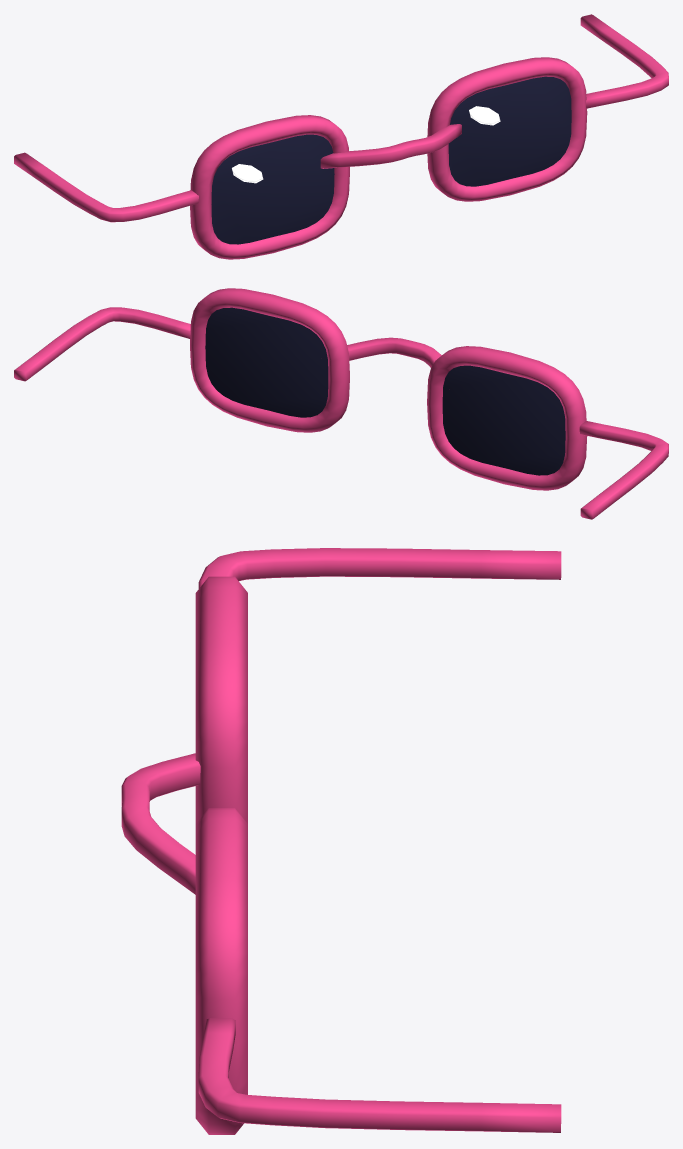
The model's file is sunglasses-koala.glb.
3 renders of one model, top to bottom at view 1: azimuth 30°, elevation 25°; view 2: azimuth 150°, elevation 25°; view 3: azimuth 270°, elevation 25°, orthographic. The views are drawn at different scales.
Visible parts, largest first — view 1: lens.001, lens, rim.001, rim, temple.001, temple, bridge, shine, shine.001; view 2: lens.001, lens, rim, rim.001, temple, temple.001, bridge; view 3: rim, temple, rim.001, temple.001, bridge.
Boxes of the visible parts, x1,y1,x2,y2 form: lens.001: [211, 134, 334, 244]; lens: [448, 76, 571, 186]; rim.001: [190, 115, 349, 259]; rim: [427, 57, 587, 201]; temple.001: [14, 152, 198, 222]; temple: [580, 14, 668, 108]; bridge: [320, 124, 461, 168]; shine: [469, 106, 500, 125]; shine.001: [232, 164, 263, 183]; lens.001: [442, 365, 565, 475]; lens: [205, 307, 328, 417]; rim: [190, 288, 349, 432]; rim.001: [427, 346, 587, 490]; temple: [14, 307, 190, 381]; temple.001: [579, 421, 668, 519]; bridge: [347, 337, 441, 367]; rim: [195, 808, 247, 1134]; temple: [198, 1018, 561, 1132]; rim.001: [195, 576, 247, 823]; temple.001: [198, 548, 561, 588]; bridge: [121, 753, 200, 894].
Size of the model in its own units: 1.33 by 0.2784 by 0.437.
